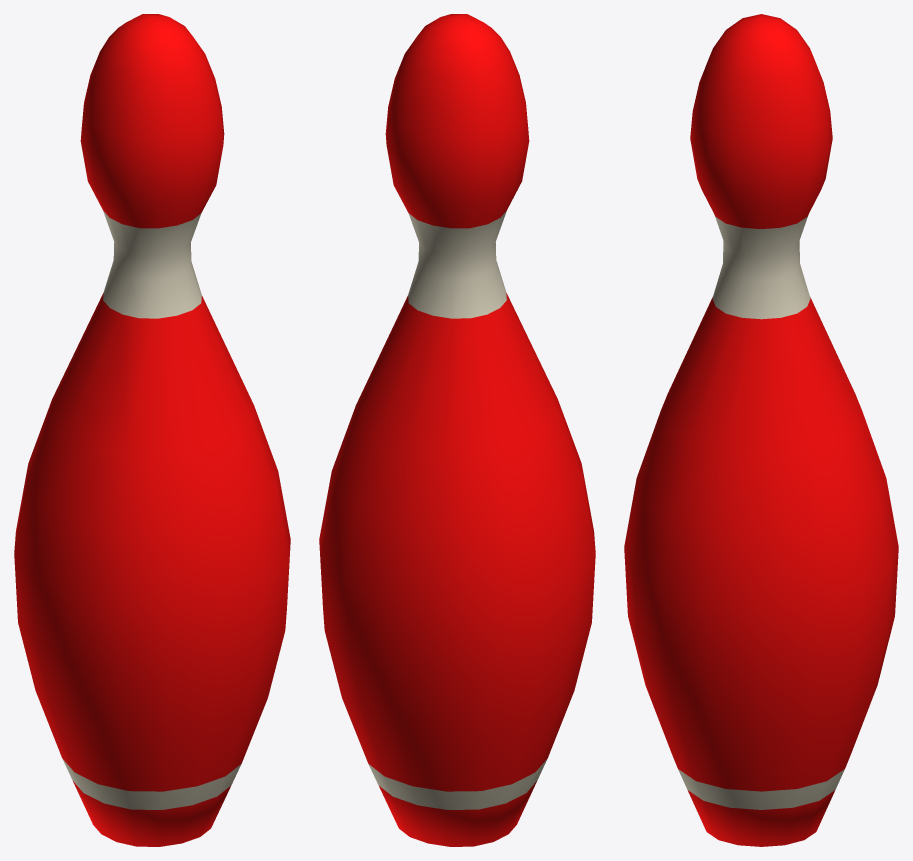
Rendered from pin_red.gltf.
The picture shows the model from 3 angles, left to right: view 1: azimuth 30°, elevation 25°; view 2: azimuth 150°, elevation 25°; view 3: azimuth 270°, elevation 25°; orthographic projection.
Visible parts, largest first — view 1: pin.001; view 2: pin.001; view 3: pin.001.
Part boxes in pixels (x1=…): pin.001: x1=14, y1=14, x2=290, y2=846; pin.001: x1=319, y1=14, x2=595, y2=846; pin.001: x1=624, y1=14, x2=898, y2=846.
Bounding box in the file's own units: 0.1176 × 0.38 × 0.1176.
Materials: 1 (1 with a texture image).
